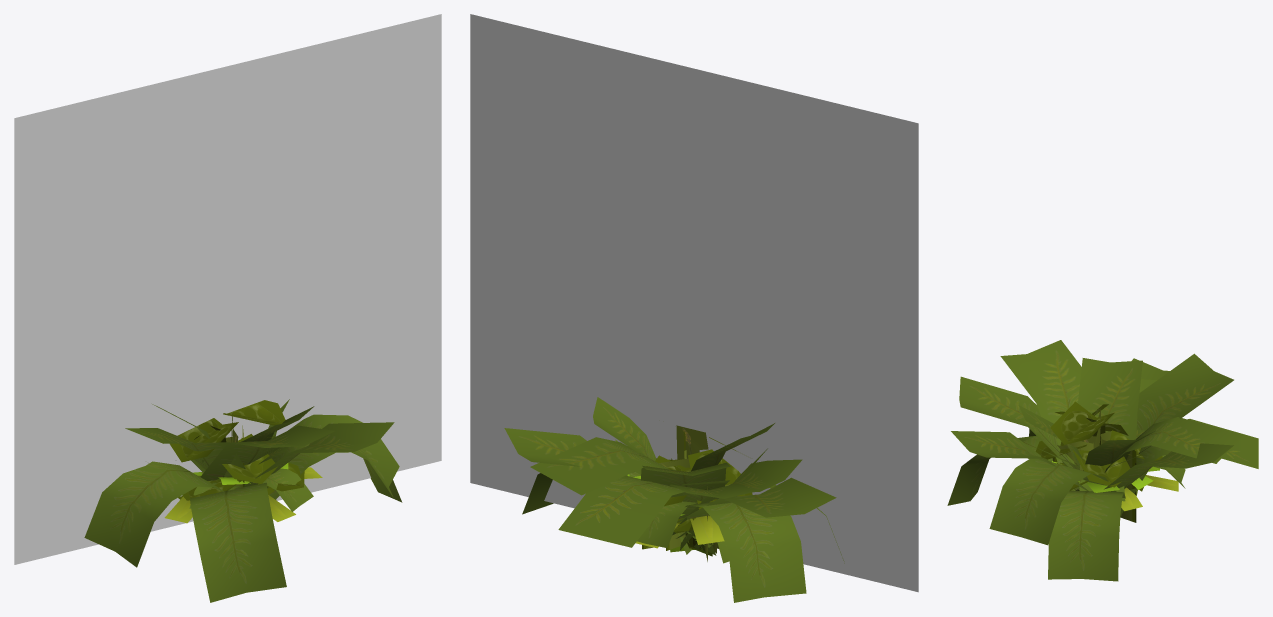
File: Foliage.fbx
3 renders of one model, left to right at view 1: azimuth 30°, elevation 25°; view 2: azimuth 150°, elevation 25°; view 3: azimuth 270°, elevation 25°, orthographic. The views are drawn at different scales.
Visible parts, largest first — view 1: Plane, Plant_Palm1, Plant_Monstera1, Plant_Palm2, Plant_Misc4; view 2: Plane, Plant_Palm1, Plant_Palm2, Plant_Grass1, Plant_Monstera1, Plant_Misc4; view 3: Plant_Palm1, Plant_Monstera1, Plant_Misc4, Plant_Grass1, Plant_Palm2.
Part boxes in pixels (x1,y1,x2,y2): Plane: [14, 14, 441, 564]; Plant_Palm1: [84, 399, 402, 602]; Plant_Monstera1: [170, 400, 304, 500]; Plant_Palm2: [189, 447, 313, 511]; Plant_Misc4: [164, 463, 322, 523]; Plane: [470, 14, 918, 592]; Plant_Palm1: [504, 397, 844, 602]; Plant_Palm2: [635, 468, 729, 563]; Plant_Grass1: [642, 425, 718, 561]; Plant_Monstera1: [633, 431, 752, 549]; Plant_Misc4: [627, 474, 724, 548]; Plant_Palm1: [947, 340, 1258, 581]; Plant_Monstera1: [1035, 401, 1162, 490]; Plant_Misc4: [1052, 461, 1178, 511]; Plant_Grass1: [1053, 409, 1136, 522]; Plant_Palm2: [1035, 429, 1185, 501].
Bounding box in the file's own units: 200 × 210 × 140.
